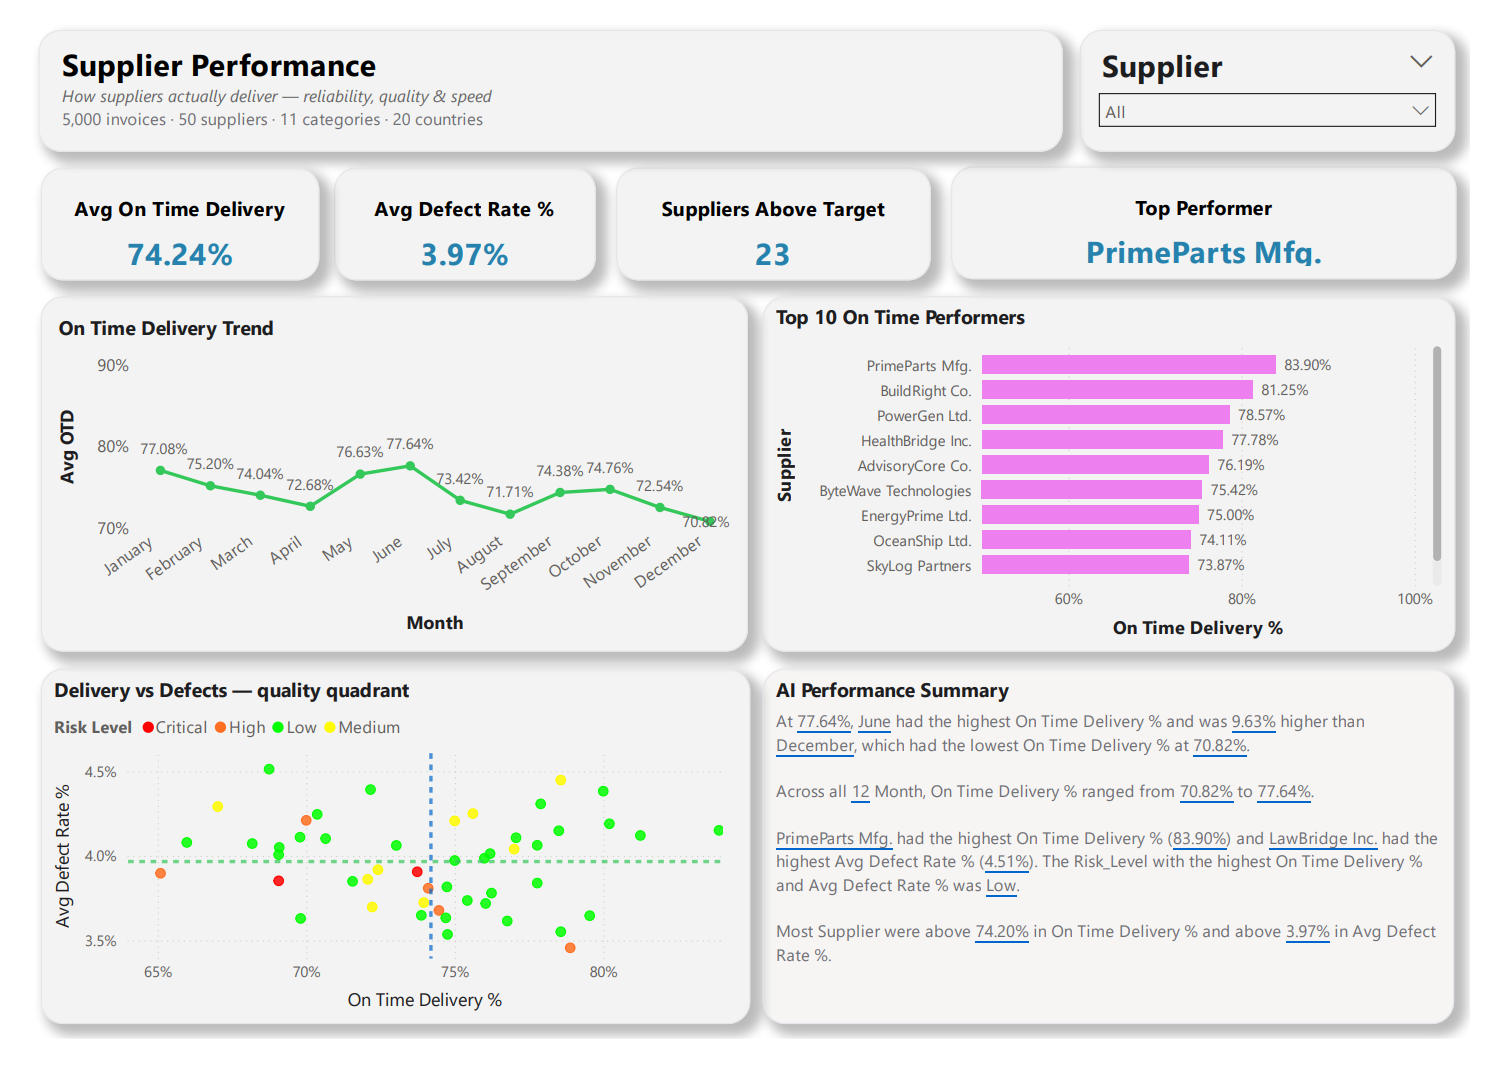

Layout of this report page (visuals, bound fields, positions):
{"tool":"powerbi","page":{"name":"Supplier Performance","canvas":[1280,900],"ordinal":3},"visuals":[{"type":"cardVisual","title":"Total Spend","fields":{"Data":["procurement_data.Suppliers Above Target"]},"box":[523.3,128.3,278.3,100],"z":0},{"type":"cardVisual","title":"Total Spend","fields":{"Data":["procurement_data.Top Performer"]},"box":[820,126.7,448.3,100],"z":1000},{"type":"slicer","fields":{"Values":["procurement_data.Supplier"]},"box":[934.3,5.7,332.9,108.6],"z":2000},{"type":"textbox","box":[11.4,5.7,907.1,108.6],"z":3000},{"type":"cardVisual","title":"Total Spend","fields":{"Data":["procurement_data.Avg Defect Rate %"]},"box":[273.3,128.3,231.7,100],"z":4000},{"type":"cardVisual","title":"Total Spend","fields":{"Data":["procurement_data.On Time Delivery %"]},"box":[13.3,128.3,246.7,100],"z":5000},{"type":"lineChart","title":"On Time Delivery Trend","fields":{"Category":["procurement_data.Date.Variation.Date Hierarchy.Month"],"Y":["procurement_data.On Time Delivery %"]},"box":[13.3,241.7,626.7,315],"z":6000},{"type":"clusteredBarChart","title":"Top 10 On Time Performers","fields":{"Category":["procurement_data.Supplier"],"Y":["procurement_data.On Time Delivery %"]},"box":[653.3,241.7,613.3,315],"z":7000},{"type":"scatterChart","title":"Delivery vs Defects — quality quadrant","fields":{"Category":["procurement_data.Supplier"],"X":["procurement_data.On Time Delivery %"],"Y":["procurement_data.Avg Defect Rate %"],"Series":["procurement_data.Risk_Level"]},"box":[13.3,571.7,628.3,315],"z":8000},{"type":"textbox","title":"AI Performance Summary","box":[653,572,613,315],"z":9000}]}

Visuals, with their boxes in screenshot pixels (x1, y1, x2, y2), scaled from the page's 1280x900 canvas onto the 1496x1065 screenshot:
"Total Spend" cardVisual: [612,152,937,270]
"Total Spend" cardVisual: [958,150,1482,268]
slicer - procurement_data.Supplier: [1092,7,1481,135]
textbox: [13,7,1073,135]
"Total Spend" cardVisual: [319,152,590,270]
"Total Spend" cardVisual: [16,152,304,270]
"On Time Delivery Trend" lineChart: [16,286,748,659]
"Top 10 On Time Performers" clusteredBarChart: [764,286,1480,659]
"Delivery vs Defects — quality quadrant" scatterChart: [16,677,750,1049]
"AI Performance Summary" textbox: [763,677,1480,1050]
